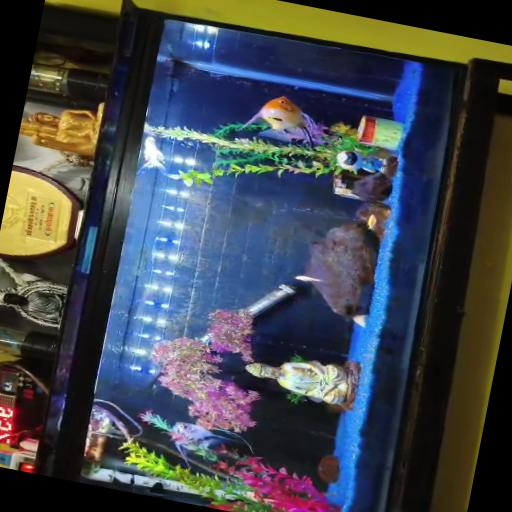Fish: (243, 96, 316, 144), (172, 422, 245, 466), (139, 136, 167, 173), (296, 276, 323, 282), (367, 215, 377, 230)
